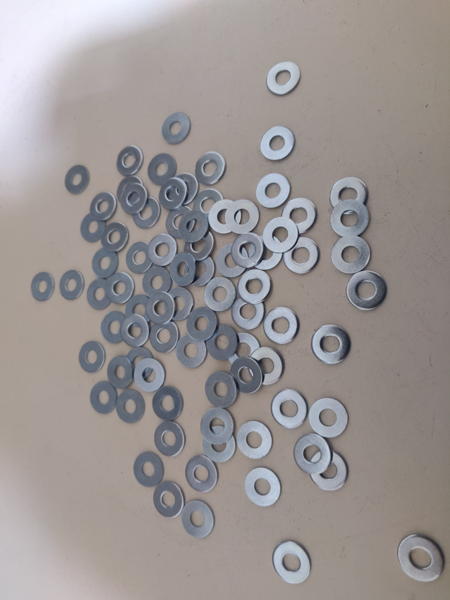circle: (398, 535, 445, 584), (273, 541, 312, 585), (309, 450, 350, 491), (346, 270, 387, 311), (311, 324, 351, 364), (309, 398, 350, 437), (295, 434, 333, 474), (332, 236, 371, 274), (330, 177, 370, 214), (245, 468, 282, 506), (272, 390, 308, 429), (237, 421, 273, 459), (332, 200, 370, 236), (263, 217, 300, 253), (249, 347, 284, 385), (264, 307, 299, 345), (284, 237, 319, 275), (282, 198, 318, 234), (257, 173, 292, 209), (201, 408, 235, 445), (250, 234, 284, 271), (261, 126, 296, 161), (228, 333, 262, 369), (203, 425, 236, 462), (231, 357, 264, 394), (186, 455, 218, 493), (231, 297, 266, 331), (237, 270, 271, 305), (182, 500, 214, 537), (267, 62, 302, 95), (231, 233, 264, 268), (226, 199, 259, 234), (154, 481, 185, 518), (206, 372, 237, 409), (176, 334, 208, 369), (209, 199, 241, 234), (186, 307, 218, 341), (217, 243, 249, 277), (153, 386, 184, 421), (207, 325, 238, 360), (205, 278, 237, 311), (164, 287, 195, 321), (134, 452, 164, 487), (155, 421, 185, 456), (135, 358, 165, 393), (184, 229, 215, 262), (179, 210, 210, 243), (193, 190, 225, 221), (196, 152, 226, 185), (185, 254, 215, 287), (146, 292, 175, 326), (148, 234, 177, 268), (142, 267, 172, 299), (116, 390, 145, 423), (90, 381, 119, 414), (121, 314, 150, 347), (106, 272, 135, 305), (148, 154, 177, 186), (150, 320, 179, 352), (166, 206, 195, 238), (169, 173, 198, 205), (126, 348, 154, 381), (162, 112, 190, 145), (102, 311, 130, 344), (101, 222, 130, 253), (133, 197, 161, 229), (159, 178, 187, 210), (108, 356, 135, 389), (171, 252, 197, 286), (125, 295, 154, 325), (126, 243, 155, 273), (117, 145, 144, 177), (92, 247, 119, 278), (79, 342, 105, 374), (90, 192, 118, 221), (81, 212, 107, 243), (117, 175, 143, 206), (88, 279, 113, 311), (122, 183, 147, 215), (65, 165, 90, 195), (60, 271, 84, 301), (31, 273, 54, 302)
